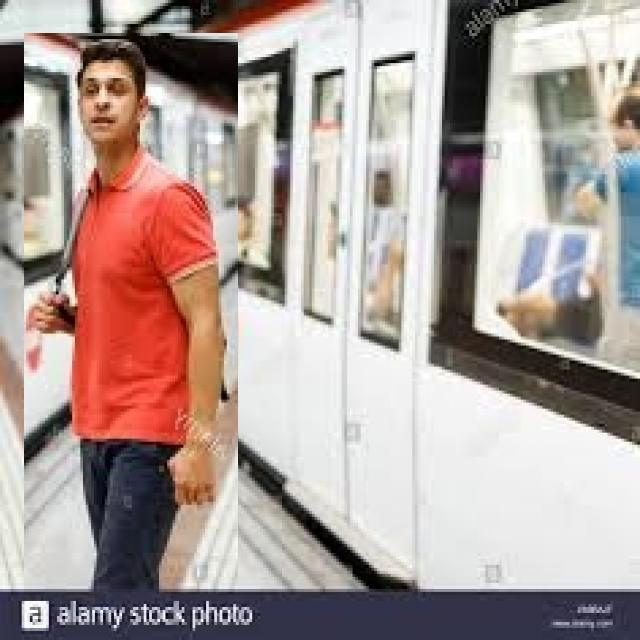NotFall: (51, 2, 268, 630)
